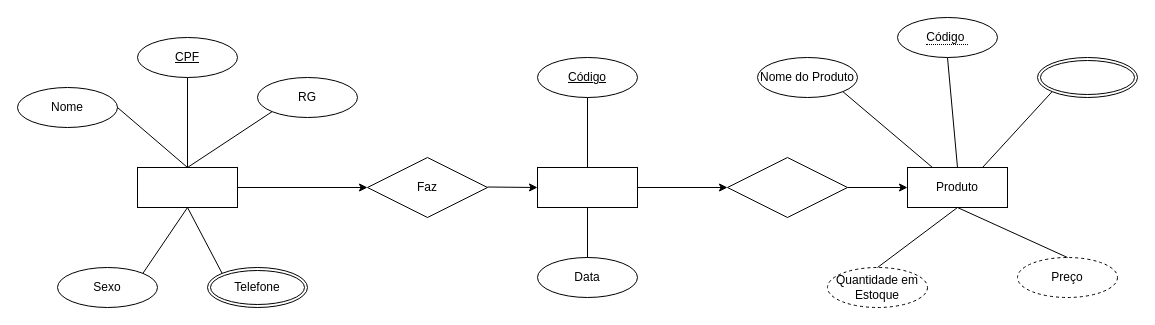
Some shapes in this 1155 by 325 pixel diagram are drawn without their labels. The centre of each missing label's shape, as x and y in pixels:
Cliente: the point at 187,187
Contém: the point at 787,187
Pedido: the point at 587,187
Tipo: the point at 1087,77
